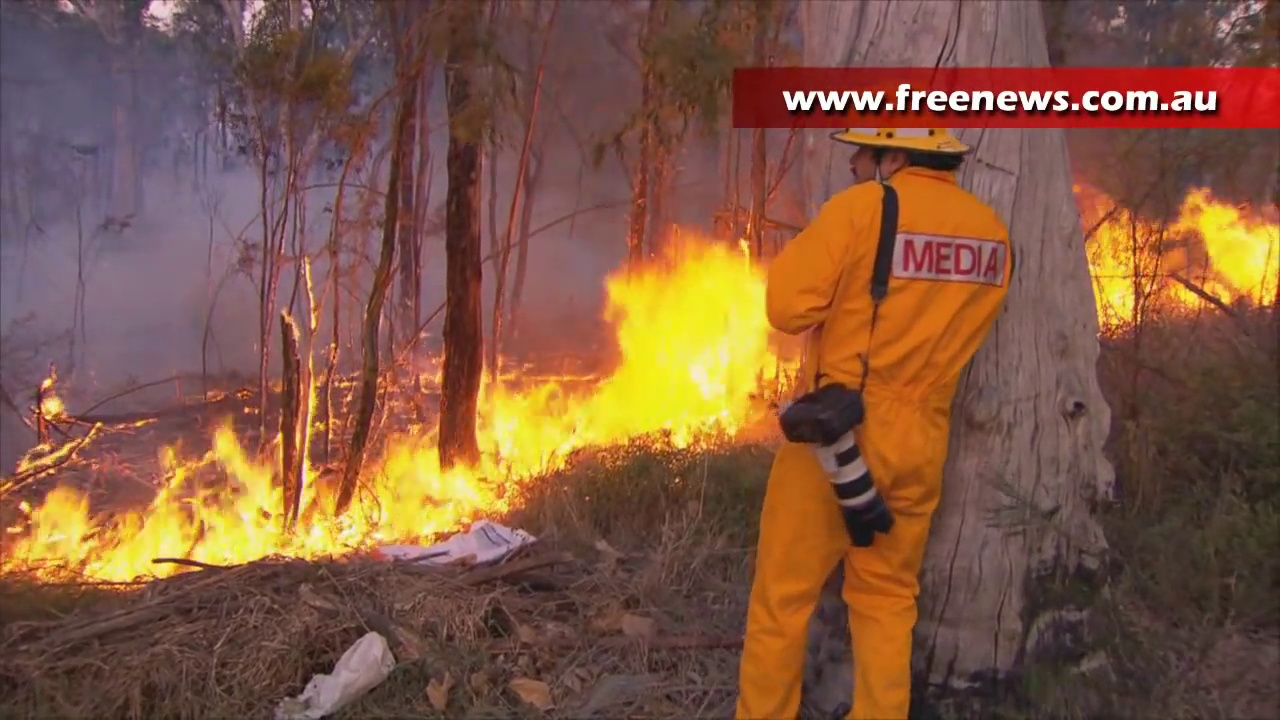fire: (477, 239, 767, 471), (12, 435, 435, 584), (1085, 193, 1280, 325)
